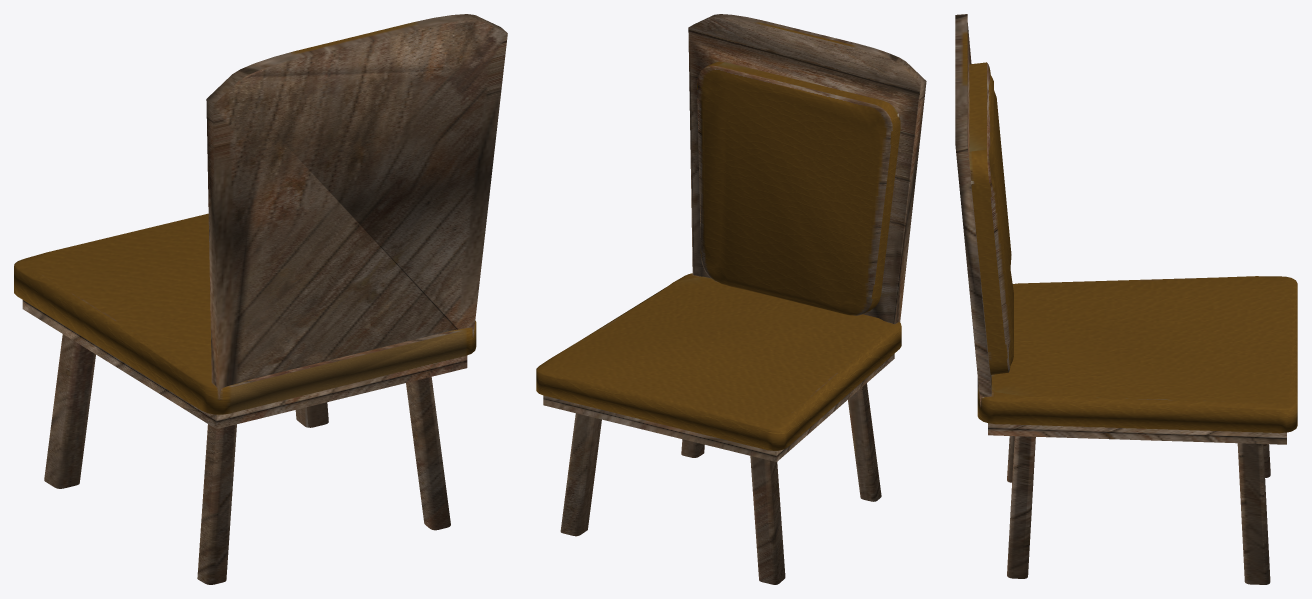
Rendered from Chair.fbx.
3 views of the same model, side by side, from view 1: azimuth 30°, elevation 25°; view 2: azimuth 150°, elevation 25°; view 3: azimuth 270°, elevation 25° (orthographic). The views are drawn at different scales.
Parts seen in each view (by area): view 1: Cube.003; view 2: Cube.003; view 3: Cube.003.
Boxes of the visible parts, <box> form: Cube.003: <box>14,14,507,584</box>; Cube.003: <box>536,14,926,584</box>; Cube.003: <box>955,14,1297,584</box>.
Size of the model in its own units: 198 by 323 by 214.
1 material, 1 textured.
